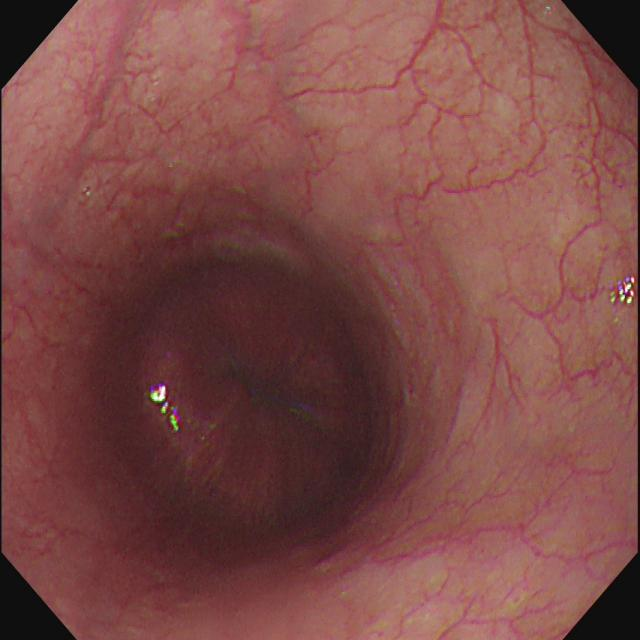I: (105, 248, 384, 555)
U: (149, 382, 182, 434), (608, 275, 637, 309)
